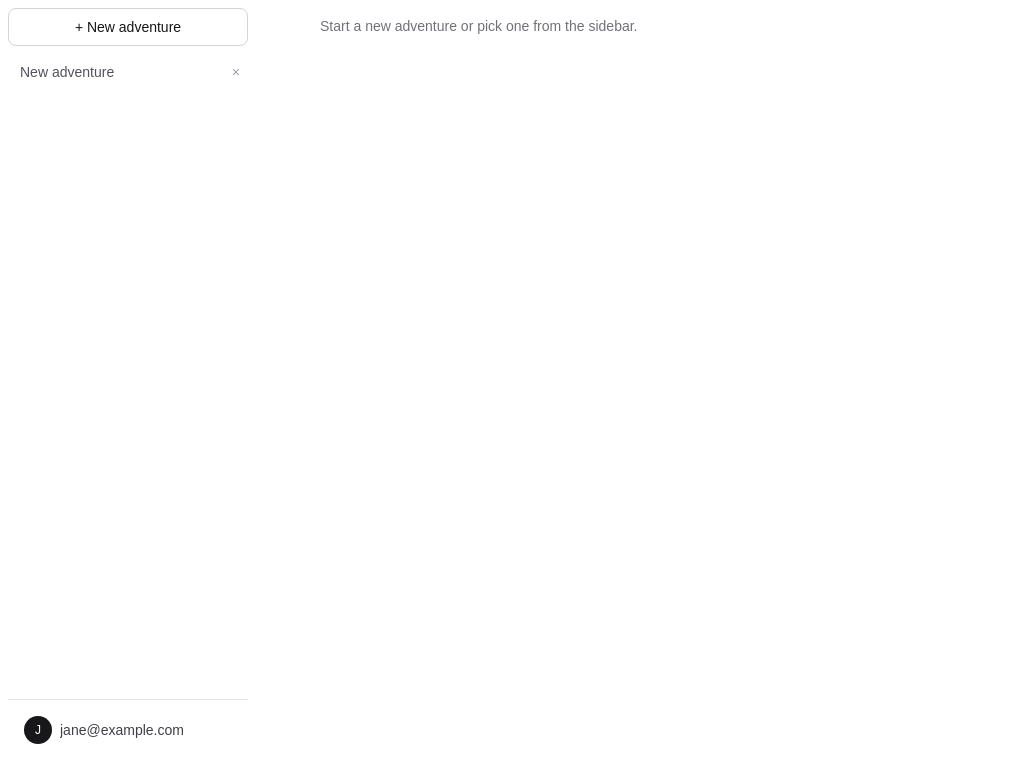
Test: ChatApp, first message title update › rolls back the optimistic sidebar title when persisting it fails
Click the button "New adventure" at x=114, y=72, box [8,54,220,90]
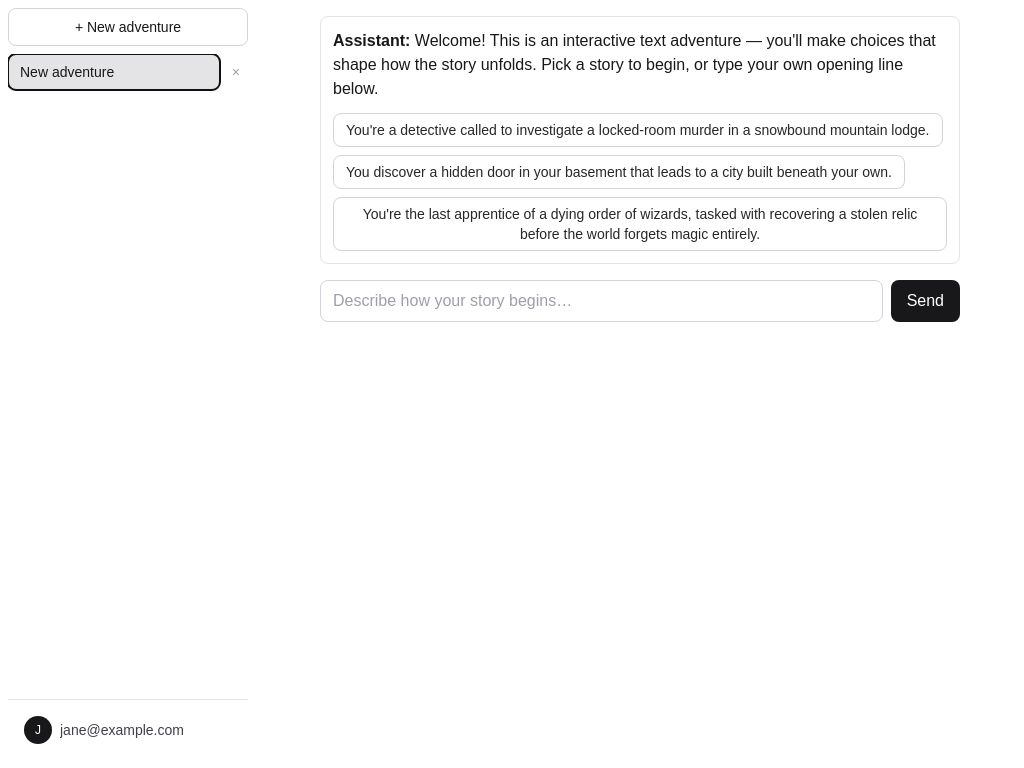
Type "A lighthouse keeper finds a brass key" into the field with placeholder "Describe how your story begins…" at x=601, y=301, box [320,280,883,322]
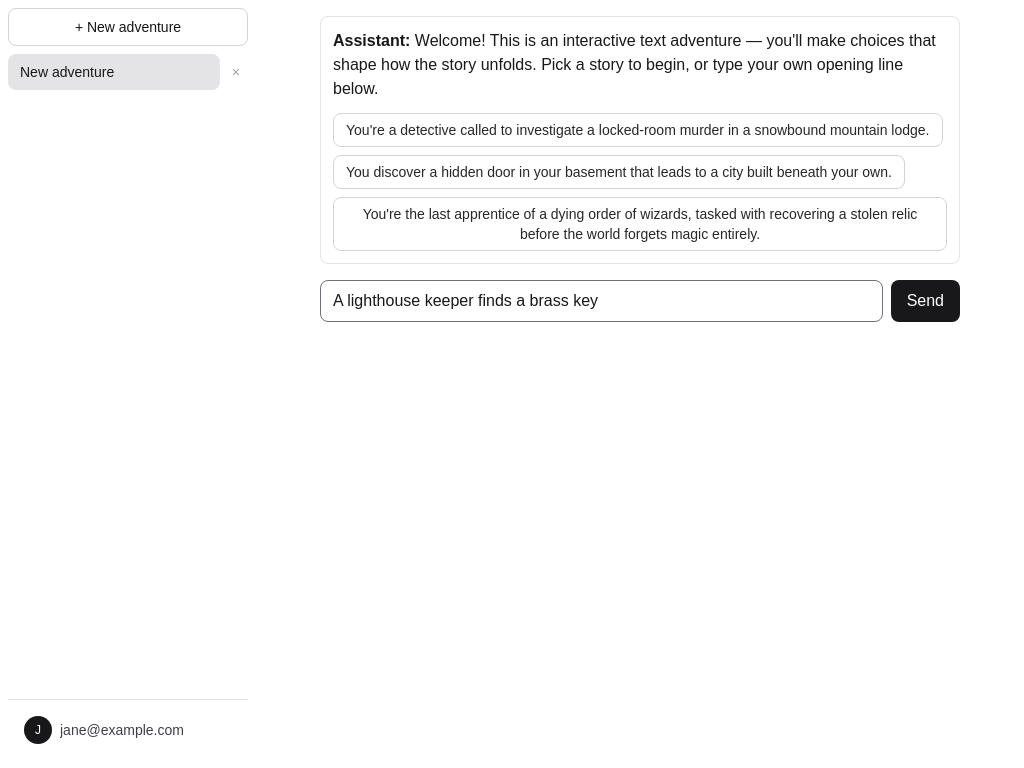
Click the button "Send" at x=925, y=301, box [891,280,960,322]
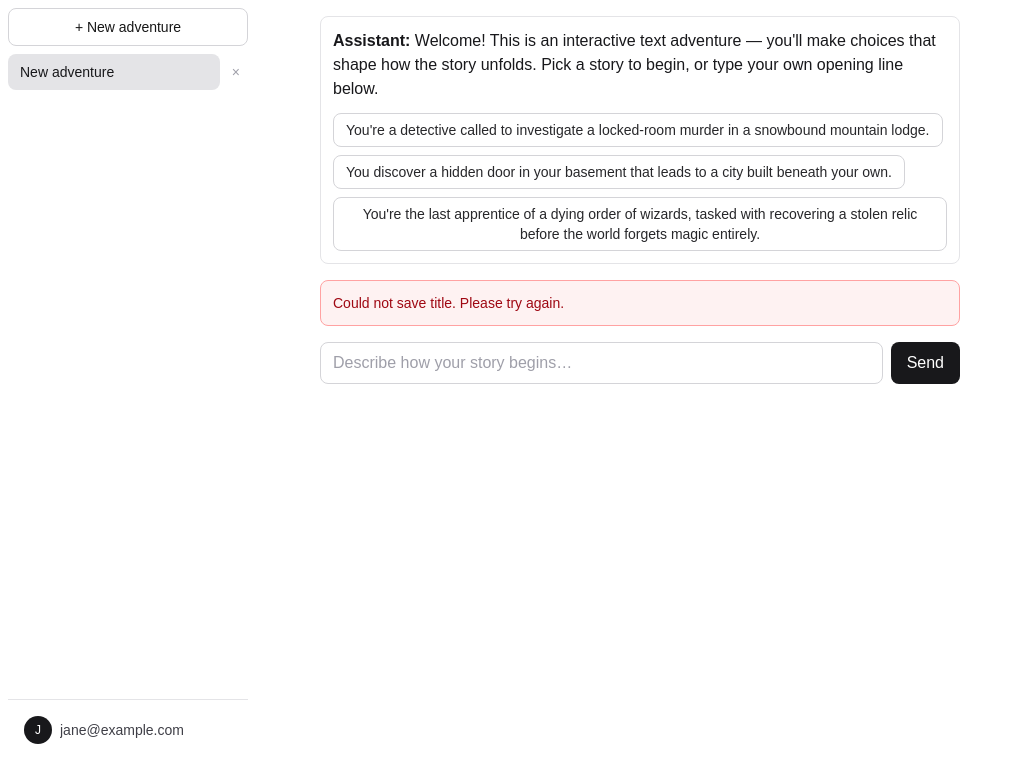
Expected: the button "New adventure" is shown, [8,54,220,90]
Expected: the text "Could not save title. Please try again." is shown, [320,280,960,326]
